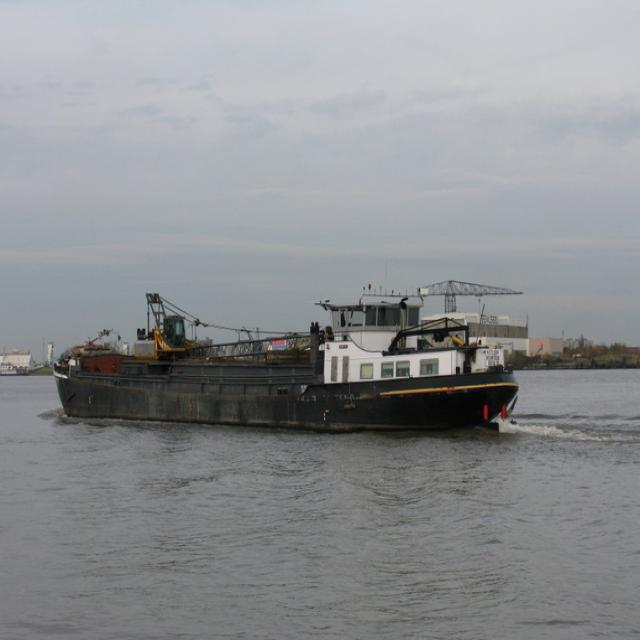fishing boat: (55, 279, 514, 426)
